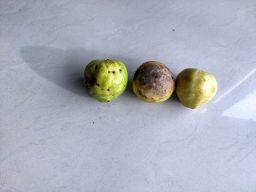guava: (81, 57, 129, 104), (130, 60, 175, 104), (175, 67, 218, 111)
